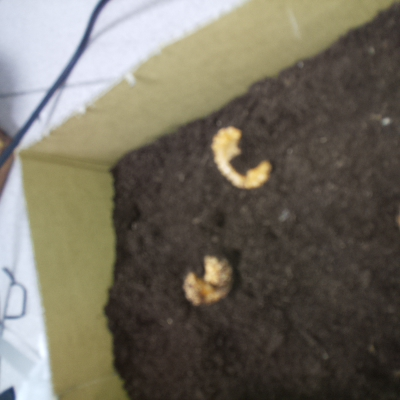eggs: (208, 124, 277, 194), (171, 252, 242, 310)
